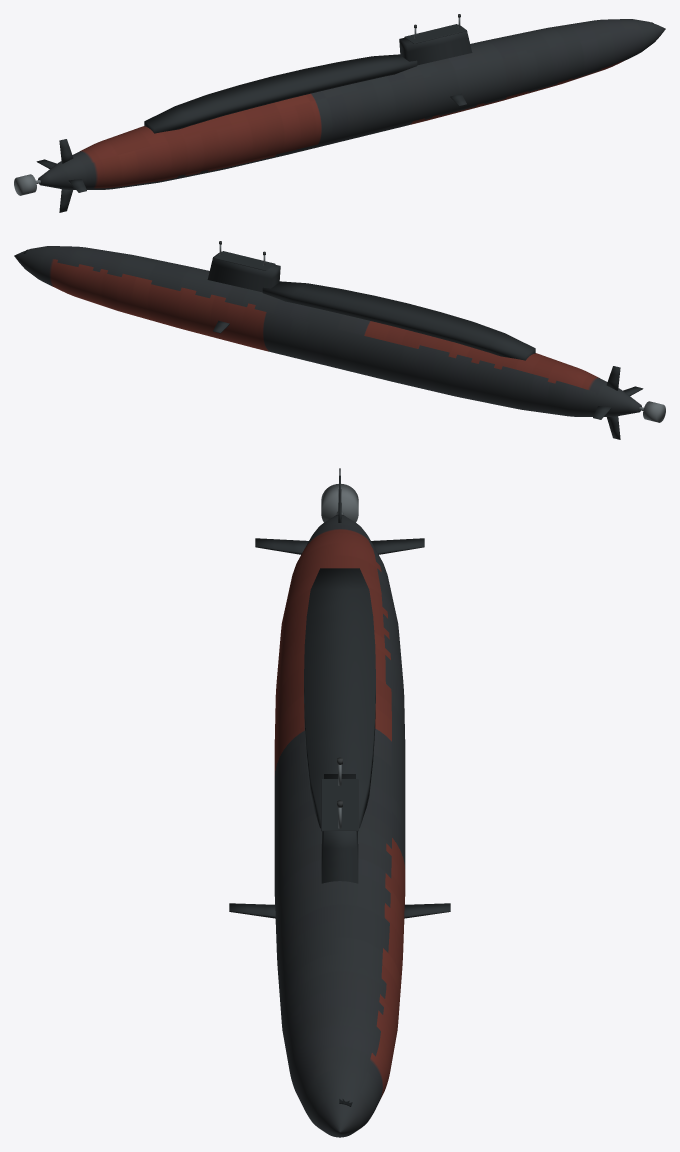
The model's file is FR_SSBN_LeTriomphant.glb.
The picture shows the model from 3 angles, top to bottom: view 1: azimuth 30°, elevation 25°; view 2: azimuth 150°, elevation 25°; view 3: azimuth 270°, elevation 25°; orthographic projection. The views are drawn at different scales.
Parts seen in each view (by area): view 1: FR_SSBN_LeTriomphant_LOD0; view 2: FR_SSBN_LeTriomphant_LOD0; view 3: FR_SSBN_LeTriomphant_LOD0.
Boxes of the visible parts, x1,y1,x2,y2 form: FR_SSBN_LeTriomphant_LOD0: (14, 14, 665, 212); FR_SSBN_LeTriomphant_LOD0: (14, 241, 665, 439); FR_SSBN_LeTriomphant_LOD0: (229, 468, 450, 1137).
Size of the model in its own units: 143 by 21.2 by 21.11.
6 materials, 1 textured.
